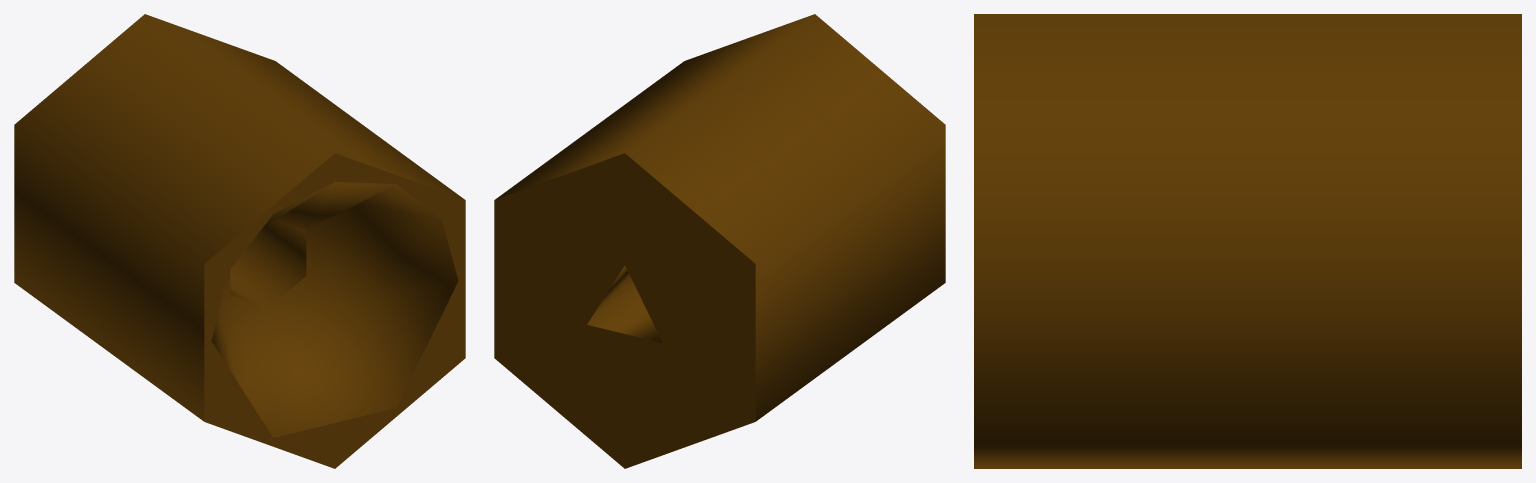
Rendered from Pallier axe roue (5.5_1.6).obj.
3 views of the same model, side by side, from view 1: azimuth 30°, elevation 25°; view 2: azimuth 150°, elevation 25°; view 3: azimuth 270°, elevation 25° (orthographic). The views are drawn at different scales.
Visible parts, largest first — view 1: Face_4, Face_2, Face_3, Face_5; view 2: Face_4, Face_1, Face_5; view 3: Face_4.
Boxes of the visible parts, bbox=[...] form: Face_4: bbox=[14, 14, 464, 421]; Face_2: bbox=[211, 182, 458, 437]; Face_3: bbox=[204, 153, 465, 468]; Face_5: bbox=[230, 219, 306, 307]; Face_4: bbox=[495, 14, 945, 421]; Face_1: bbox=[494, 153, 755, 468]; Face_5: bbox=[587, 265, 662, 343]; Face_4: bbox=[974, 14, 1521, 468].
Bounding box in the file's own units: 0.00476 × 0.0055 × 0.006.
